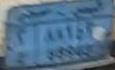city: (8, 25, 36, 67)
number: (34, 18, 114, 66)
text: (9, 0, 112, 25)
